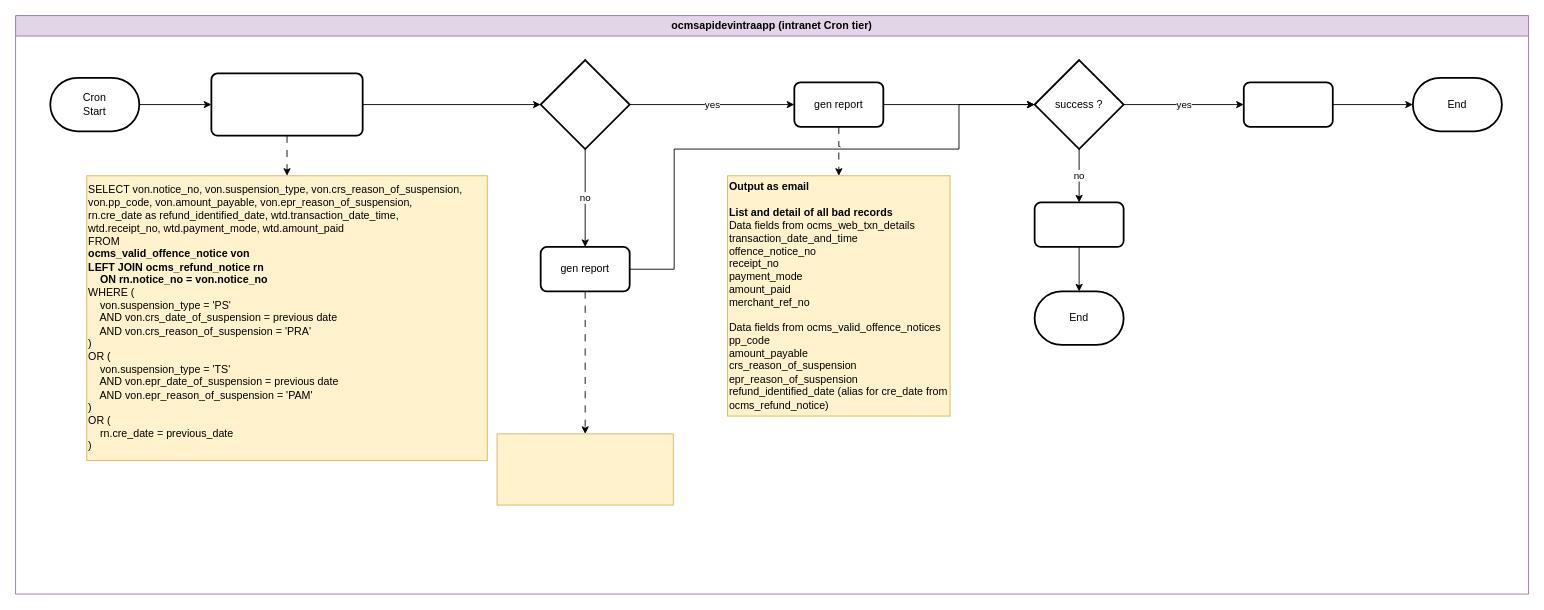
Some shapes in this 1544 by 610 pixel diagram are drawn without their labels. The shapes that lost their labels are listed below. From the top down, each one's box as (x1, y1, x2, y2) in pixels, then its label:
(210, 72, 363, 136): get list notices - PS-PRA - TS-PAM - ocms_refund_notices exist
(539, 59, 630, 150): any result ?
(1242, 81, 1333, 127): Email to OIC with the excel files
(1033, 201, 1124, 247): Email to MGG, ISG and OCMS Users
(496, 433, 673, 505): Output as email List and detail of all bad records No exception records
